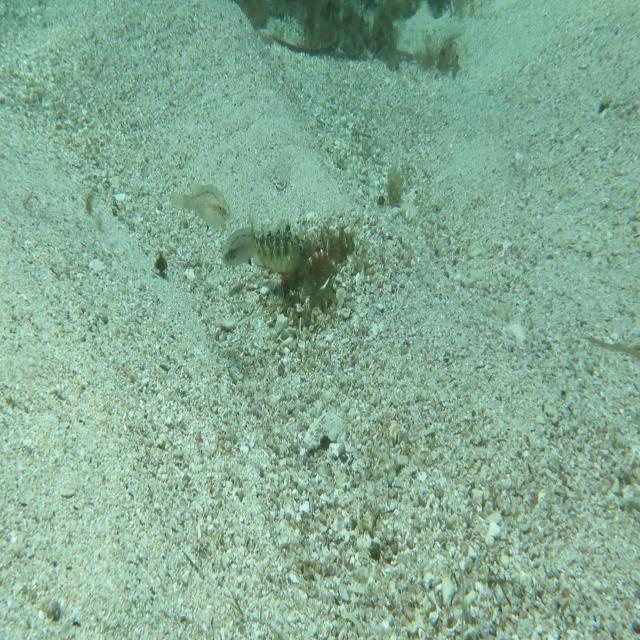BEND_OPP: (246, 212, 317, 278)
female: (218, 211, 274, 279)
nest: (260, 212, 364, 325)
other_fish: (166, 164, 232, 236)
